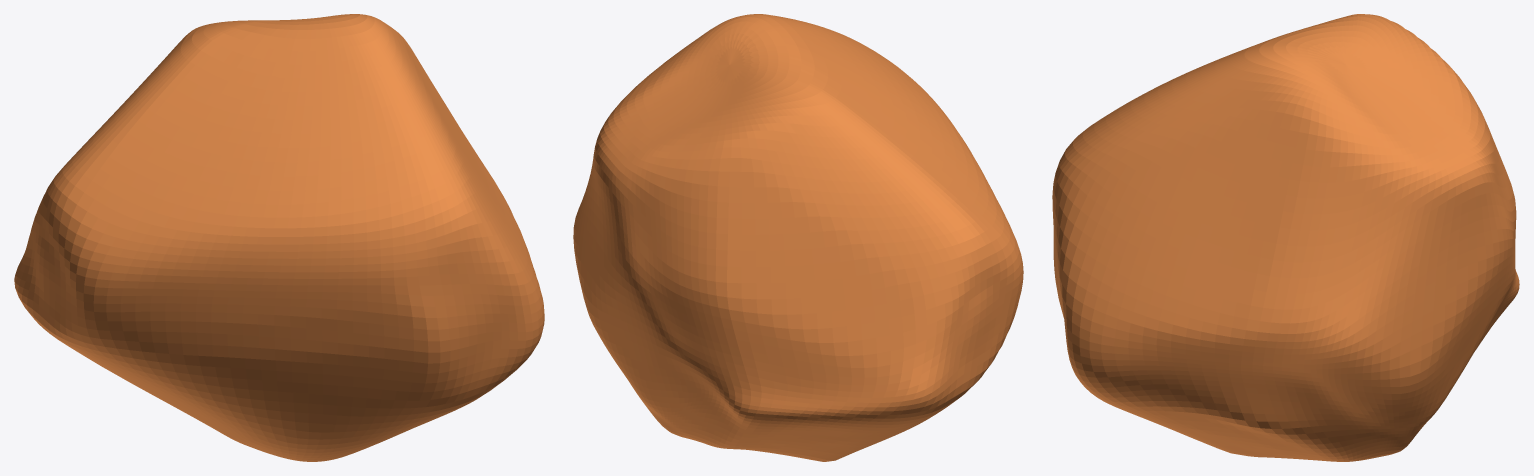
Rendered from Desert_Rock5.fbx.
The picture shows the model from 3 angles, left to right: view 1: azimuth 30°, elevation 25°; view 2: azimuth 150°, elevation 25°; view 3: azimuth 270°, elevation 25°; orthographic projection. The views are drawn at different scales.
Visible parts, largest first — view 1: Sphere; view 2: Sphere; view 3: Sphere.
Part boxes in pixels (x1,y1,x2,y2): Sphere: [14, 14, 544, 461]; Sphere: [573, 14, 1023, 461]; Sphere: [1052, 14, 1519, 461].
Size of the model in its own units: 145 by 136 by 135.
